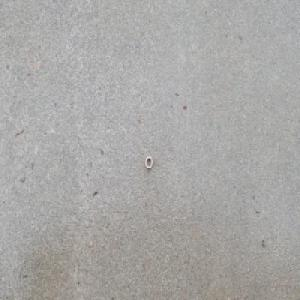Nut: (144, 154, 153, 170)
